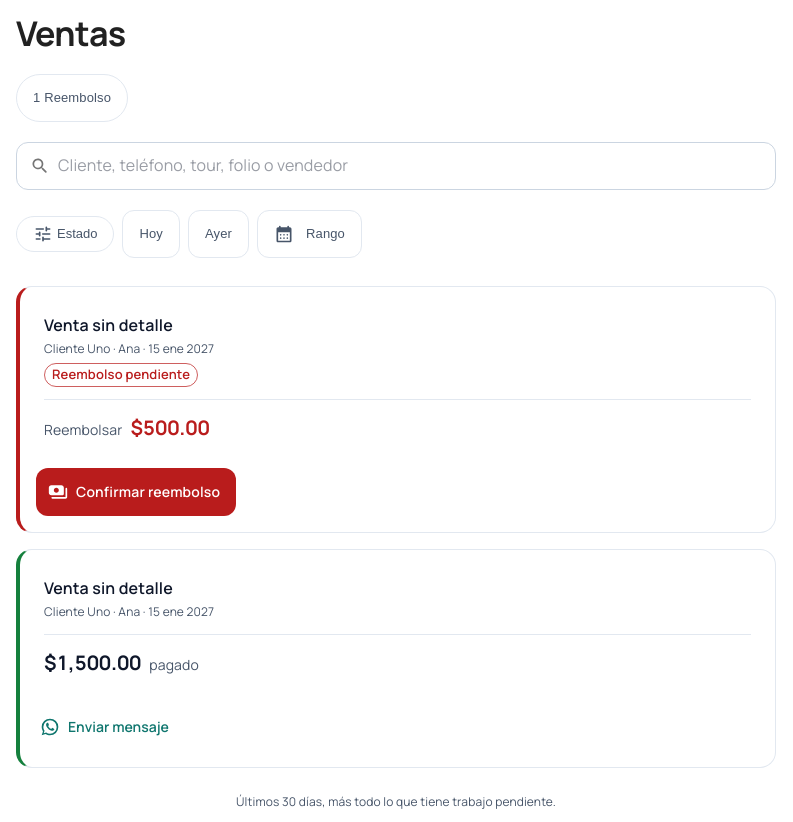
Test case: US-A84 — the pending-work bar › applies a facet in place instead of navigating away
Click the button "1 Reembolso": (72, 98) [16,74,128,122]
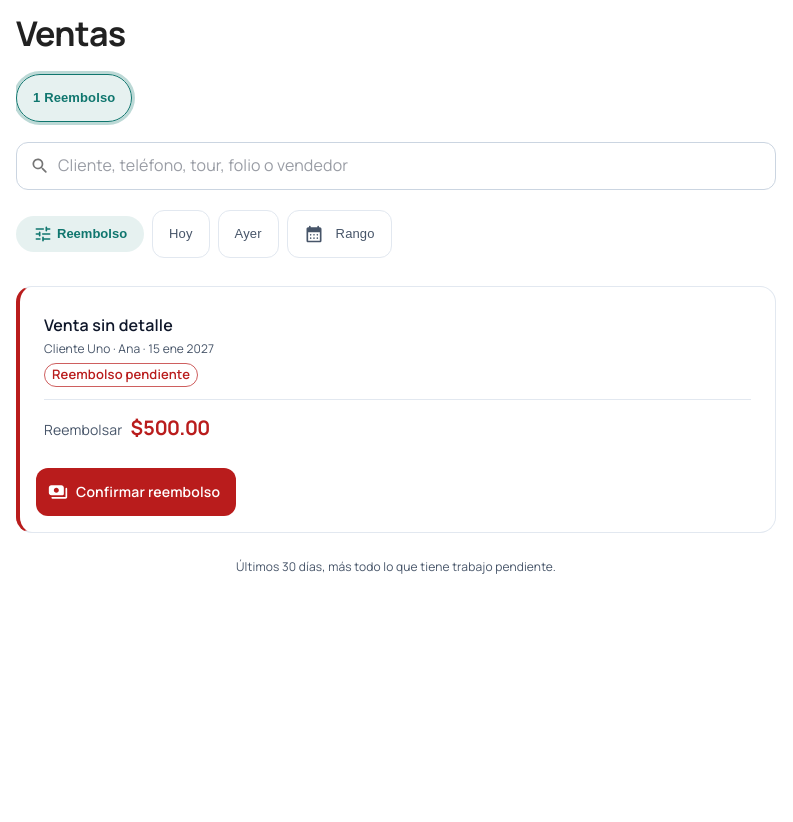
Now the button "Reembolso" is shown, box [16,216,144,252]
